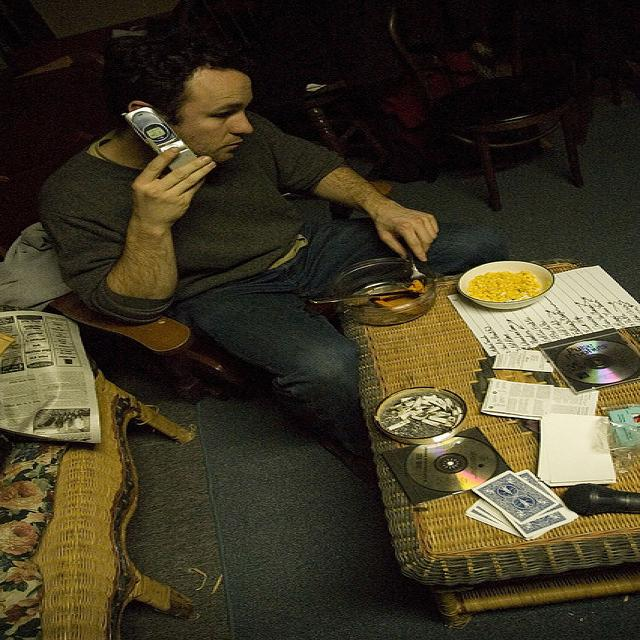chair: (388, 0, 585, 211), (39, 294, 247, 404)
dining table: (350, 258, 640, 627)
